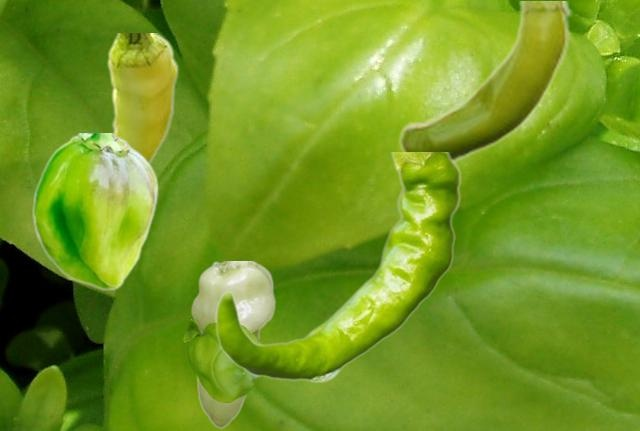green_chili: (215, 152, 461, 382), (397, 1, 571, 162), (32, 133, 158, 290), (190, 261, 274, 427), (103, 33, 178, 163)
